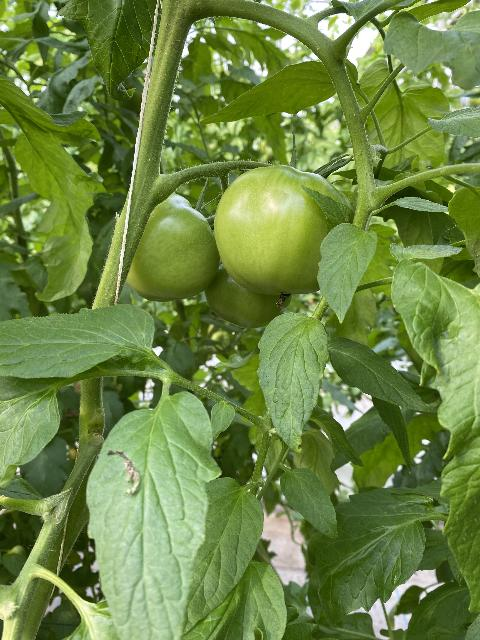b_green: (213, 165, 359, 296), (127, 193, 221, 302), (204, 264, 294, 329)
